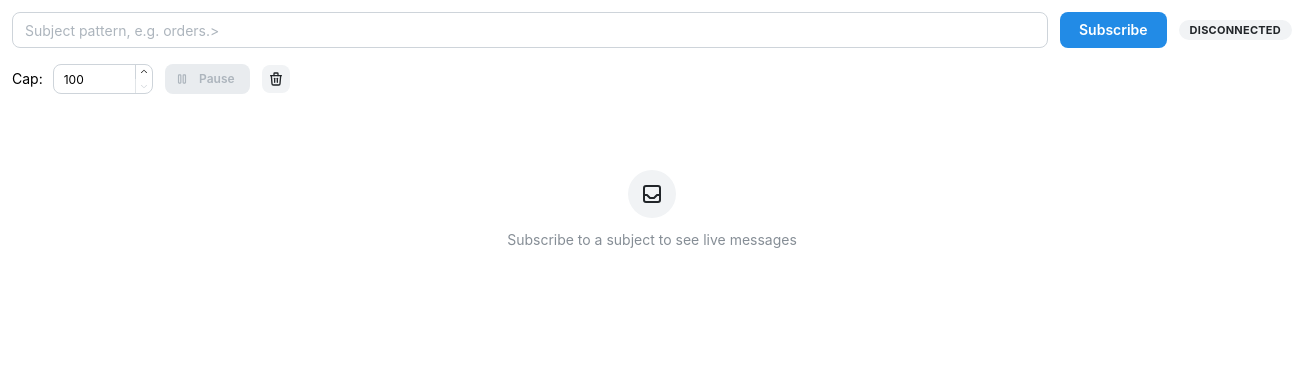
shows inline warning for subject pattern with spaces
In the field labelled "Subject pattern, e.g. orders.>": (530, 30) x1=12 y1=12 x2=1048 y2=48, type "orders with spaces"
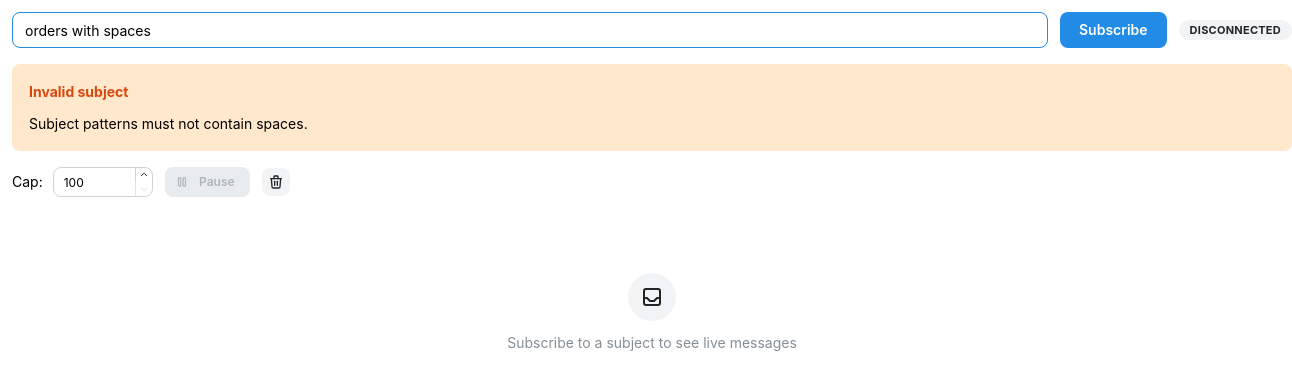
Expected: the text "Subject patterns must not contain spaces." is shown, x1=29 y1=115 x2=308 y2=132
